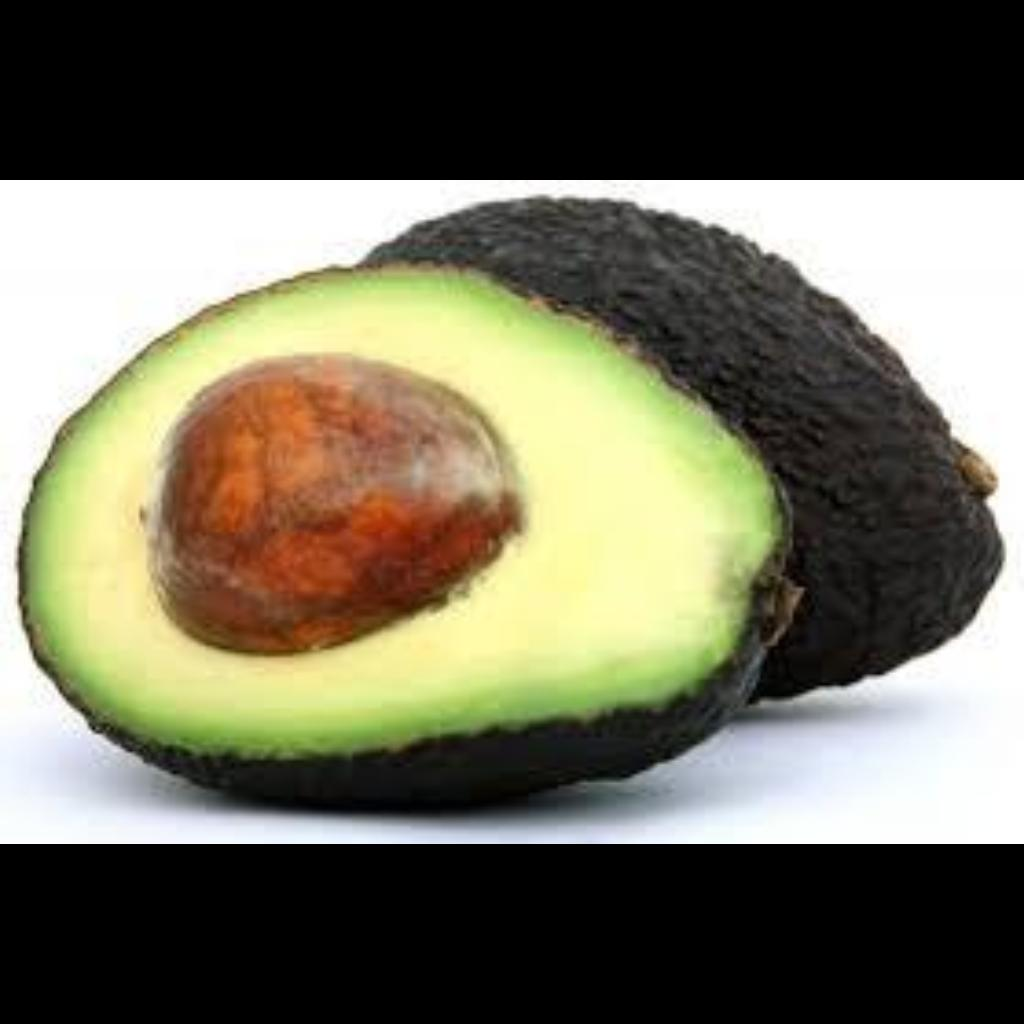Anthracnose: (462, 199, 840, 327)
